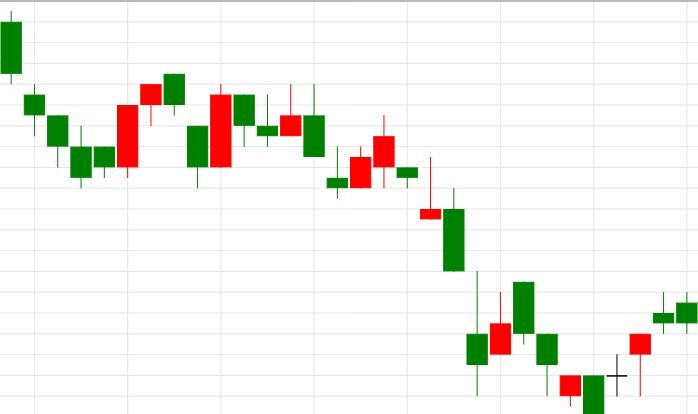bullish_engulfing_rise: (1, 10, 138, 188)
